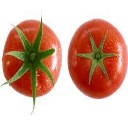tomato: (68, 19, 128, 99), (3, 20, 62, 96)
